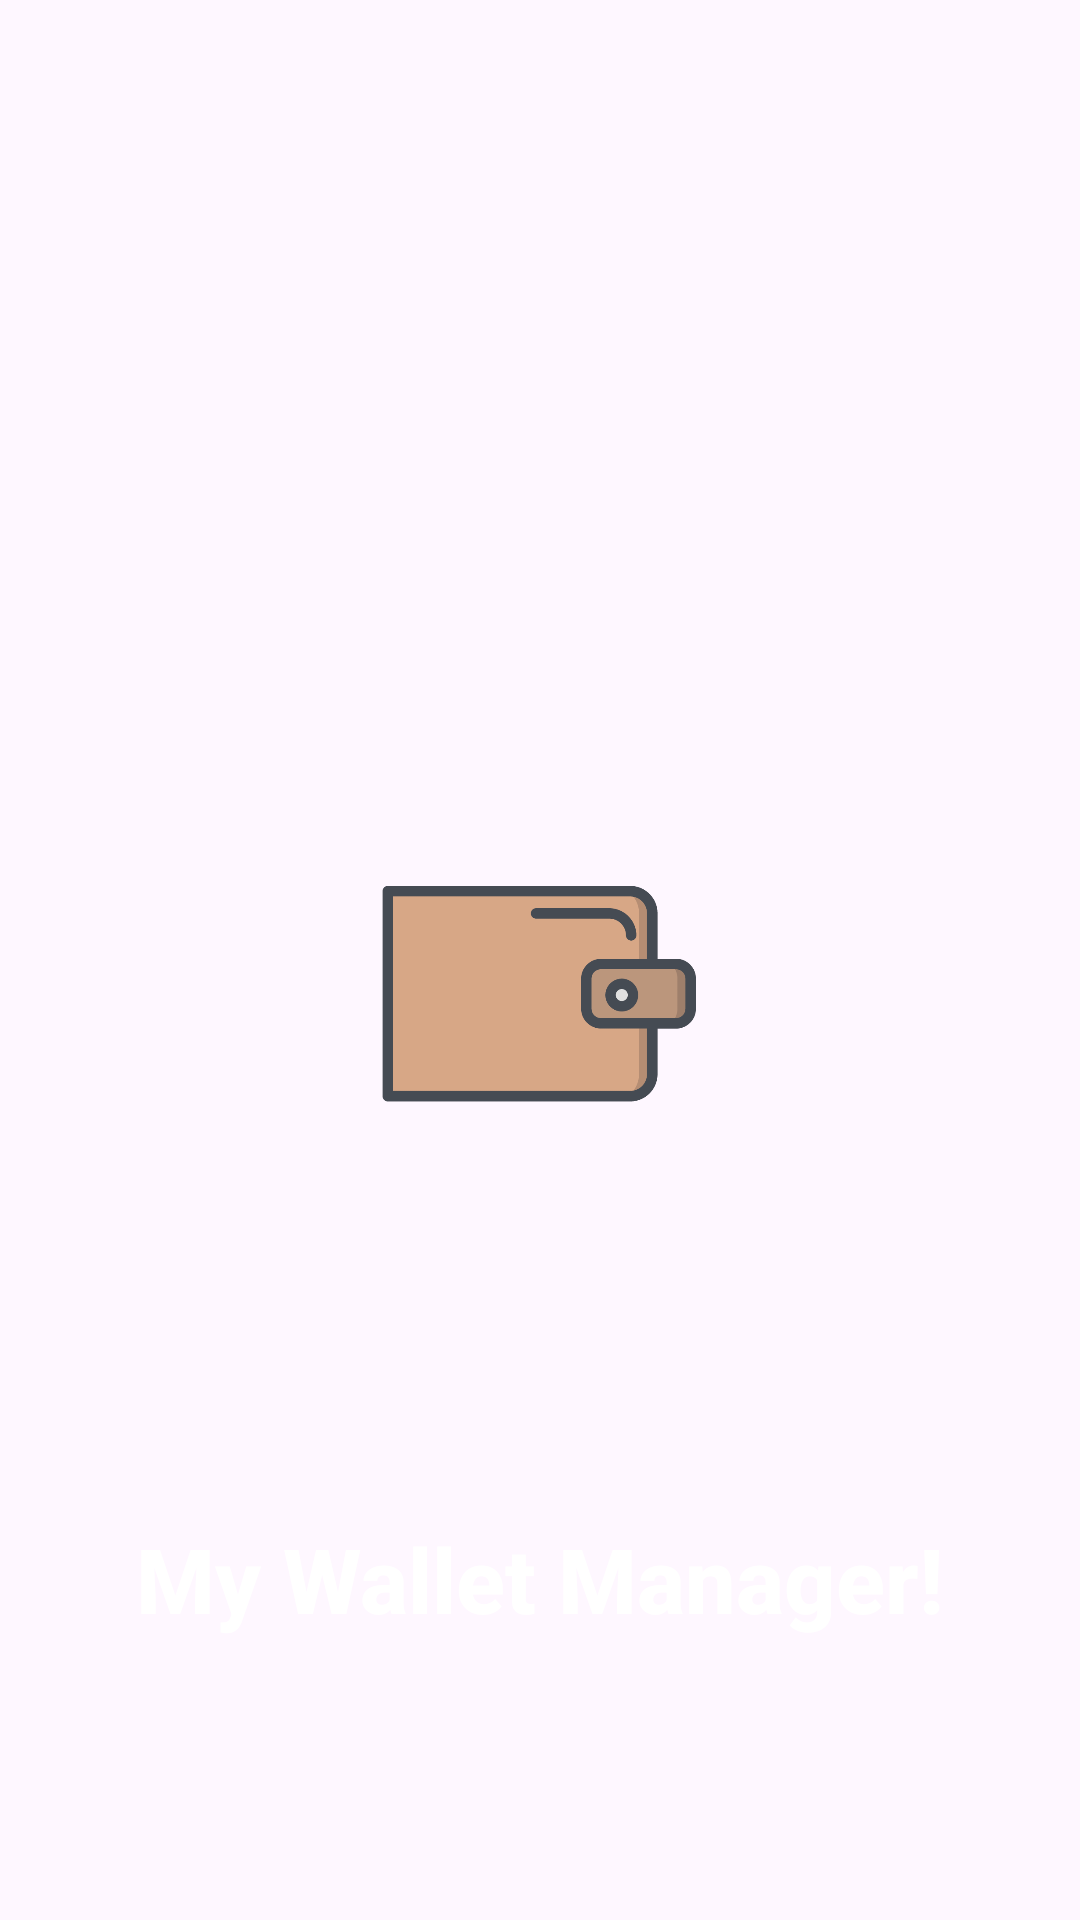

Where icons sit on this 1080x1920 app screen, as (left=x1, top=y1, right=x2, bottom=y2):
appicon: (left=382, top=886, right=696, bottom=1102)
